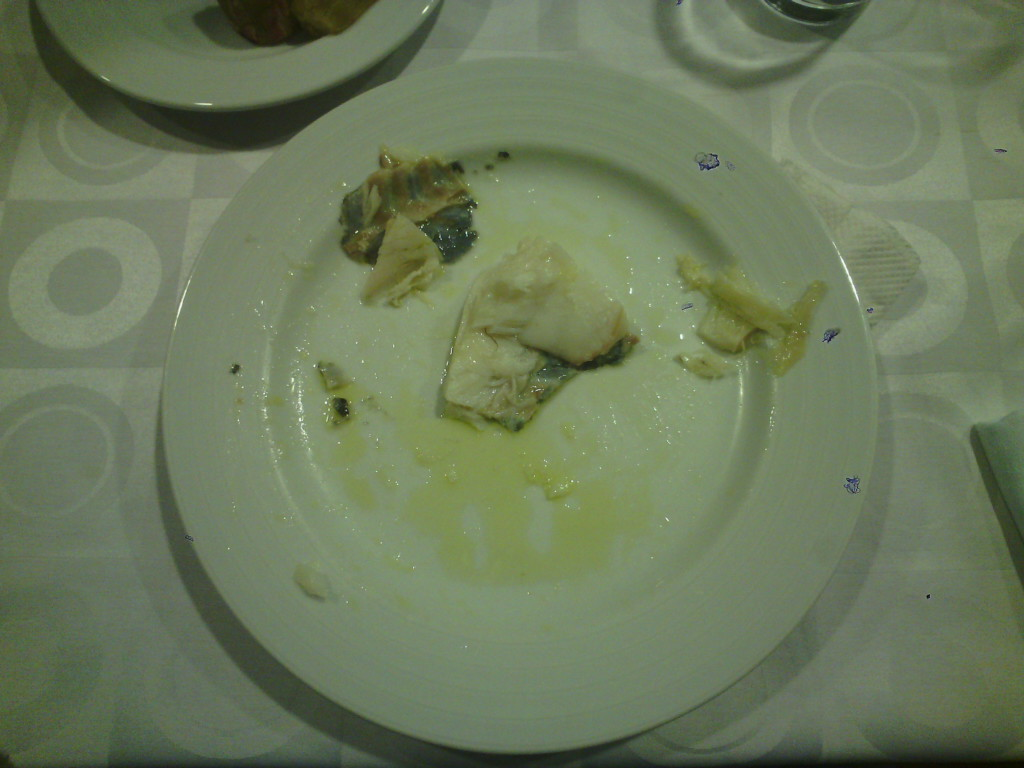0-20: (163, 60, 879, 749)
